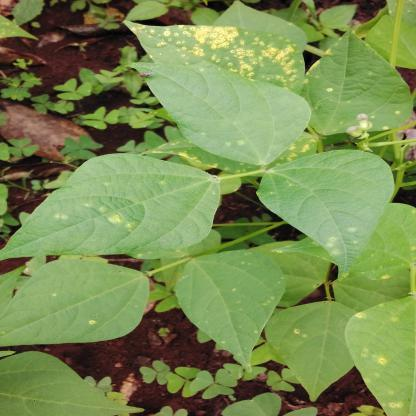Beans_Rust: (0, 154, 220, 263), (131, 59, 314, 161), (262, 152, 398, 267), (131, 21, 304, 100), (0, 257, 147, 346), (174, 252, 284, 370), (307, 35, 412, 136), (272, 301, 364, 405), (346, 293, 416, 416), (338, 201, 416, 308)
